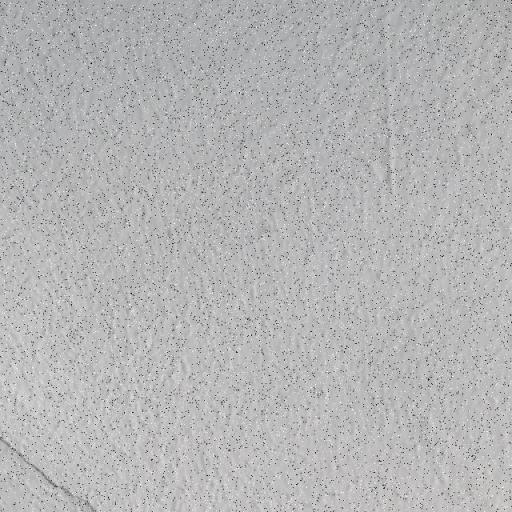moderate crack: (0, 429, 117, 512)
